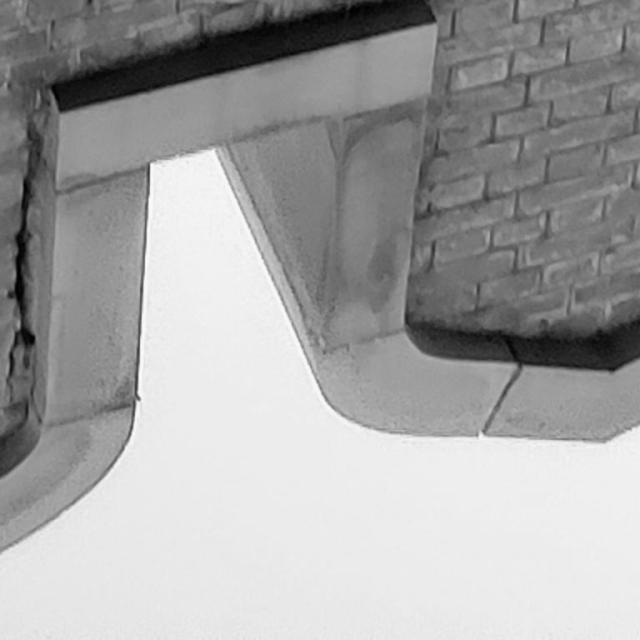crack: (7, 121, 35, 420)
